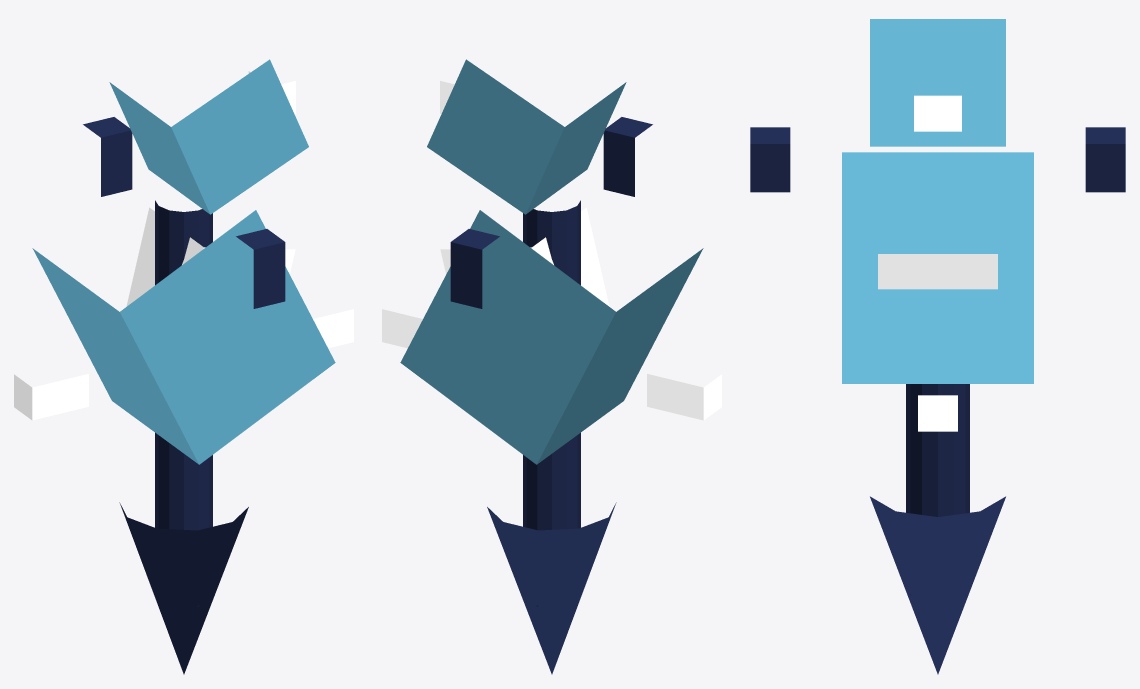
Rendered from energy.glb.
3 views of the same model, side by side, from view 1: azimuth 30°, elevation 25°; view 2: azimuth 150°, elevation 25°; view 3: azimuth 270°, elevation 25° (orthographic). The views are drawn at different scales.
Visible parts, largest first — view 1: energy-core, energy-head-orb, energy-tail-wisp, energy-spine-beam, energy-orbit-1, energy-orbit-2, energy-orbit-3, energy-inner-core, energy-orbit-0; view 2: energy-core, energy-head-orb, energy-tail-wisp, energy-spine-beam, energy-orbit-3, energy-orbit-2, energy-orbit-1, energy-inner-core, energy-orbit-0; view 3: energy-core, energy-head-orb, energy-tail-wisp, energy-spine-beam, energy-inner-core, energy-orbit-1, energy-orbit-3, energy-single-eye, energy-orbit-0.
Boxes of the visible parts, <box> form: energy-core: <box>32,210,335,464</box>; energy-head-orb: <box>109,59,308,214</box>; energy-tail-wisp: <box>119,502,248,674</box>; energy-spine-beam: <box>155,200,212,607</box>; energy-orbit-1: <box>236,229,285,308</box>; energy-orbit-2: <box>14,374,88,420</box>; energy-orbit-3: <box>83,117,132,196</box>; energy-inner-core: <box>126,207,295,306</box>; energy-orbit-0: <box>313,309,353,348</box>; energy-core: <box>400,210,703,464</box>; energy-head-orb: <box>427,59,626,214</box>; energy-tail-wisp: <box>487,502,616,674</box>; energy-spine-beam: <box>523,200,580,607</box>; energy-orbit-3: <box>450,229,499,308</box>; energy-orbit-2: <box>647,374,721,420</box>; energy-orbit-1: <box>603,117,652,196</box>; energy-inner-core: <box>440,207,609,306</box>; energy-orbit-0: <box>382,309,422,348</box>; energy-core: <box>842,152,1033,383</box>; energy-head-orb: <box>870,19,1005,146</box>; energy-tail-wisp: <box>870,496,1005,674</box>; energy-spine-beam: <box>906,384,969,594</box>; energy-inner-core: <box>878,254,997,289</box>; energy-orbit-1: <box>750,127,790,192</box>; energy-orbit-3: <box>1085,127,1125,192</box>; energy-single-eye: <box>914,95,961,131</box>; energy-orbit-0: <box>918,395,957,431</box>.
Bounding box in the file's own units: 1.02 × 1.89 × 0.94.
